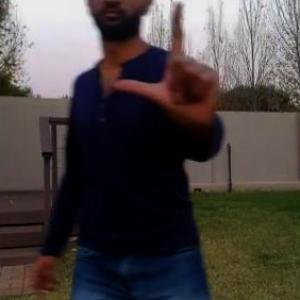land_hand: (108, 0, 222, 132)
